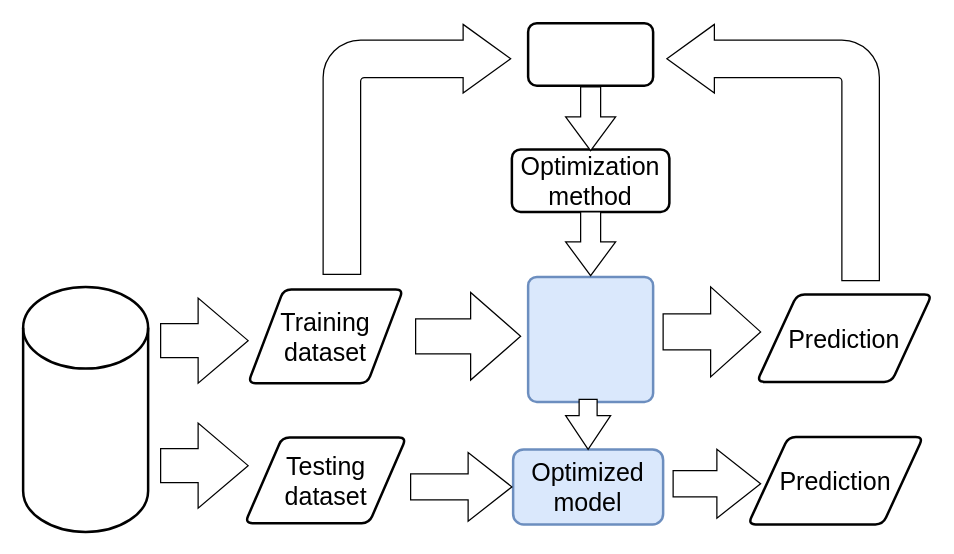
Some shapes in this 954 by 554 pixel diagram are drawn without their labels. Each missing label, with the box of its shape:
Dataset: (21, 285, 149, 532)
Loss function: (526, 21, 654, 86)
Model: (526, 275, 654, 402)
